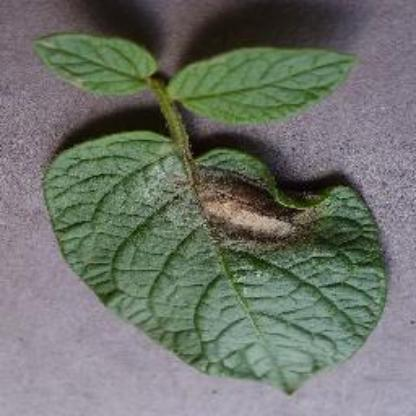Late-Blight: (38, 122, 394, 416)
